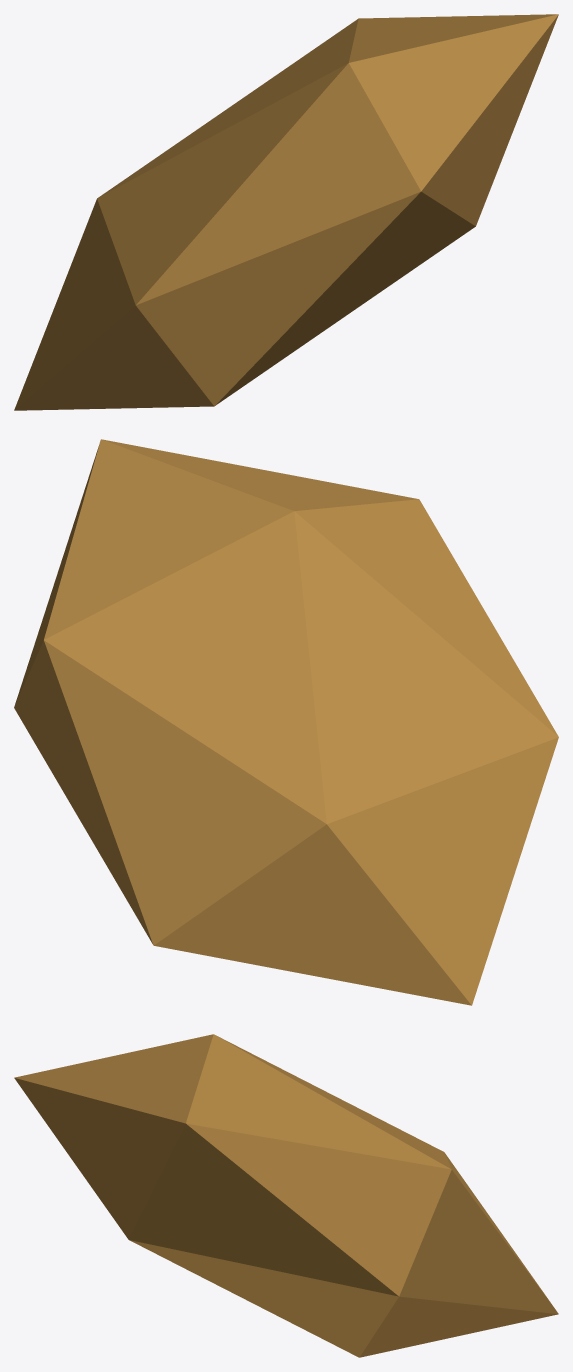
The model's file is gore_11.glb.
The picture shows the model from 3 angles, top to bottom: view 1: azimuth 30°, elevation 25°; view 2: azimuth 150°, elevation 25°; view 3: azimuth 270°, elevation 25°; orthographic projection. The views are drawn at different scales.
Visible parts, largest first — view 1: CHUNK; view 2: CHUNK; view 3: CHUNK.
Part boxes in pixels (x1,y1,x2,y2): CHUNK: (14, 14, 558, 410); CHUNK: (14, 439, 558, 1005); CHUNK: (14, 1034, 558, 1357).
Size of the model in its own units: 0.103 by 0.0785 by 0.1037.
